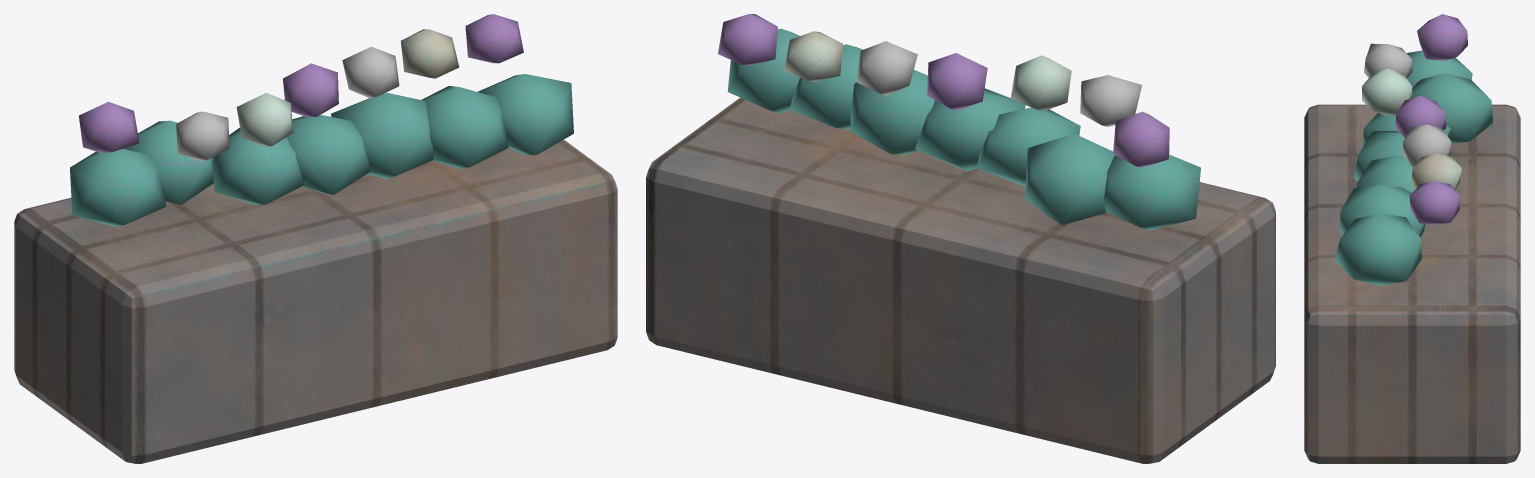
File: flowerbox.glb
3 views of the same model, side by side, from view 1: azimuth 30°, elevation 25°; view 2: azimuth 150°, elevation 25°; view 3: azimuth 270°, elevation 25° (orthographic). The views are drawn at different scales.
Visible parts, largest first — view 1: flowerbox, Glow; view 2: flowerbox, Glow; view 3: flowerbox, Glow.
Part boxes in pixels (x1,y1,x2,y2): flowerbox: [14, 14, 617, 463]; Glow: [176, 46, 399, 161]; flowerbox: [646, 14, 1275, 463]; Glow: [856, 41, 1142, 126]; flowerbox: [1304, 14, 1520, 463]; Glow: [1364, 43, 1451, 167].
Size of the model in its own units: 0.7 by 0.4082 by 0.3.
Materials: 2 (1 with a texture image).
